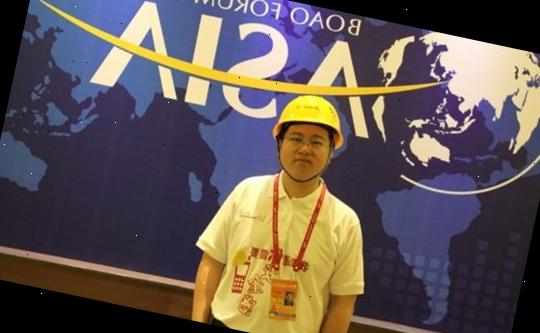helmet: (271, 84, 351, 146)
no_wear: (208, 173, 369, 333)
